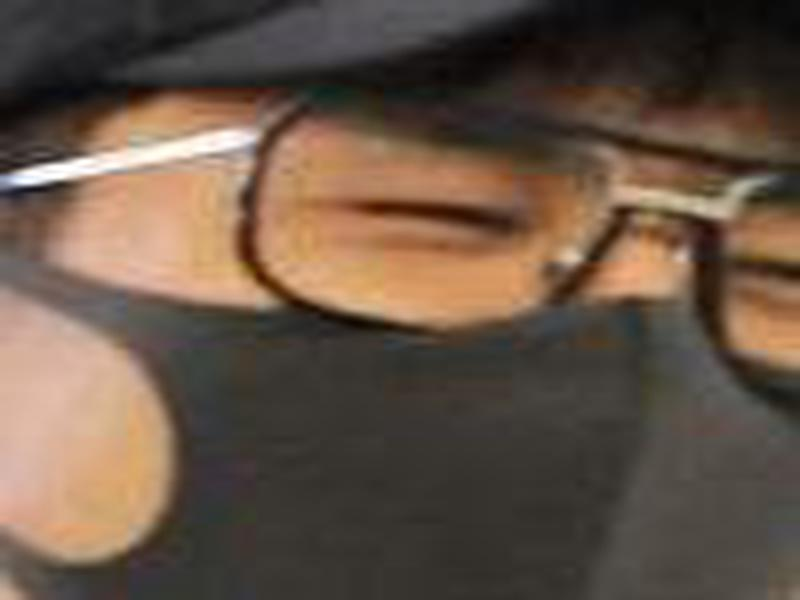with_mask: (1, 76, 797, 591)
